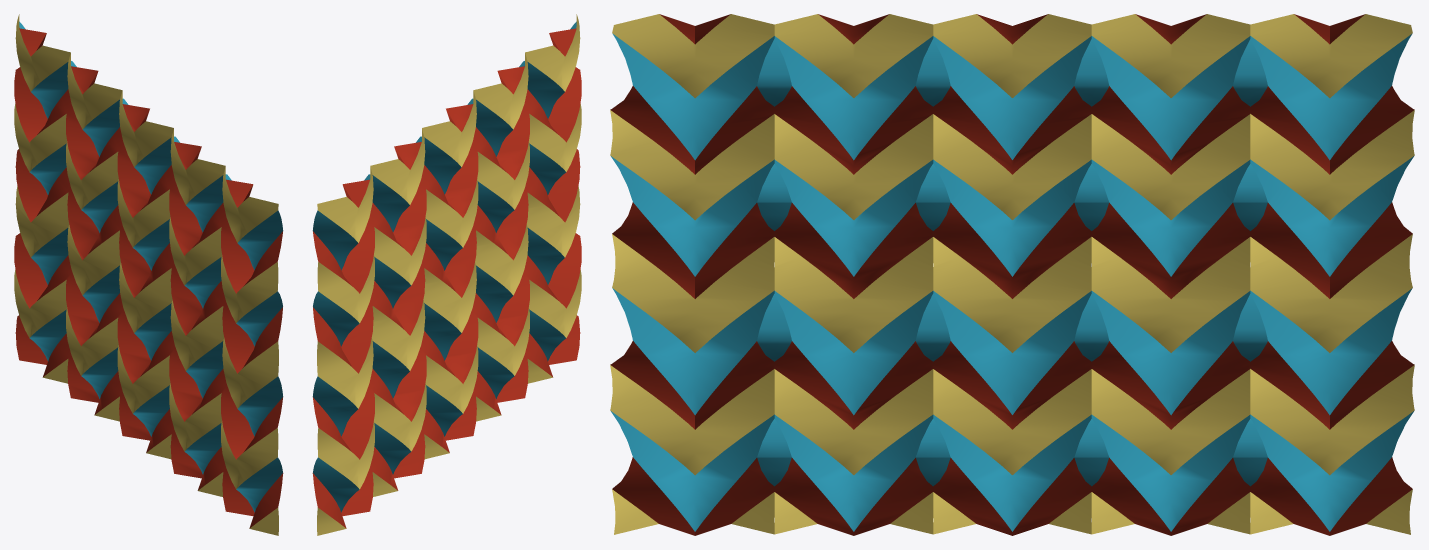
The model's file is wall_01.FBX.
3 renders of one model, left to right at view 1: azimuth 30°, elevation 25°; view 2: azimuth 150°, elevation 25°; view 3: azimuth 270°, elevation 25°, orthographic. The views are drawn at different scales.
Parts seen in each view (by area): view 1: Object016; view 2: Object016; view 3: Object016.
Part boxes in pixels (box(x1,y1,x2,y2)): Object016: box(14, 14, 283, 535); Object016: box(312, 14, 581, 535); Object016: box(610, 14, 1414, 535).
Size of the model in its own units: 31.83 by 360 by 515.
